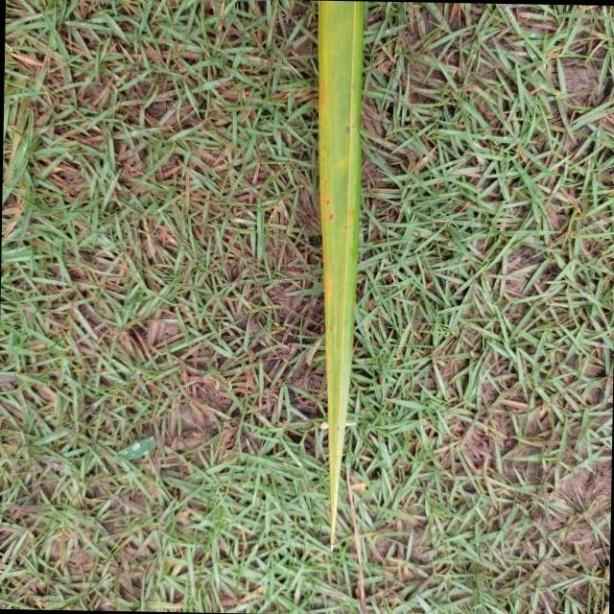nitrogen: (315, 0, 366, 561)
